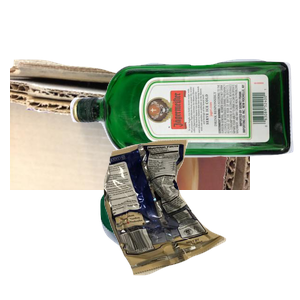cardboard: (10, 57, 250, 237)
glass: (67, 56, 300, 206)
plastic: (98, 176, 266, 300)
trash: (101, 137, 300, 300)
